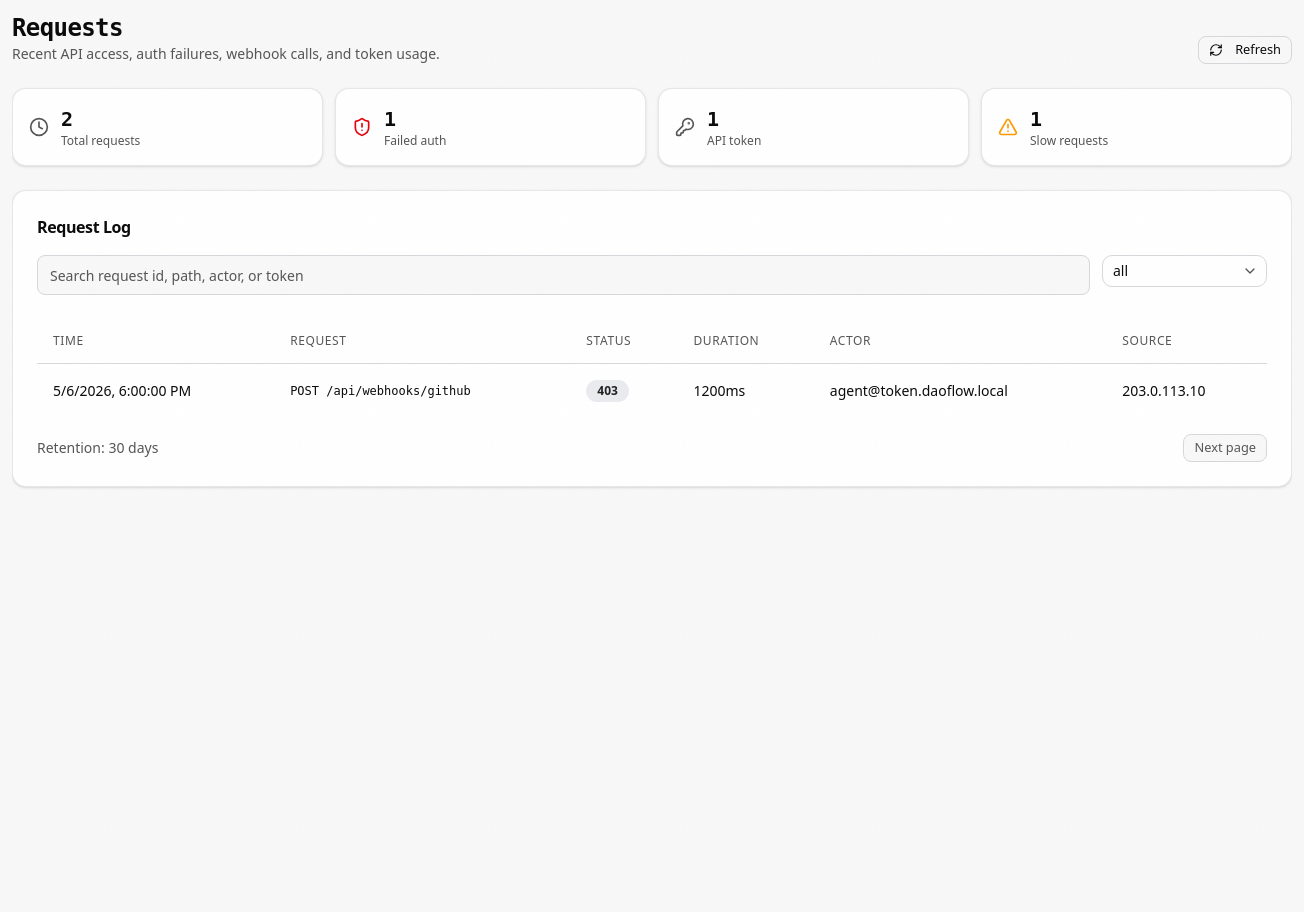
AccessLogsPage › renders request summary, rows, and redacted expanded details
Expected: the element with test id "access-logs-summary-failed-auth" shows "1", [384, 107, 396, 131]
Expected: the cell with test id "access-log-path-rlog_1" reads "POST /api/webhooks/github", [274, 363, 570, 418]
Click the row with test id "access-log-row-rlog_1".
click(122, 390)  # box [37, 363, 1267, 418]
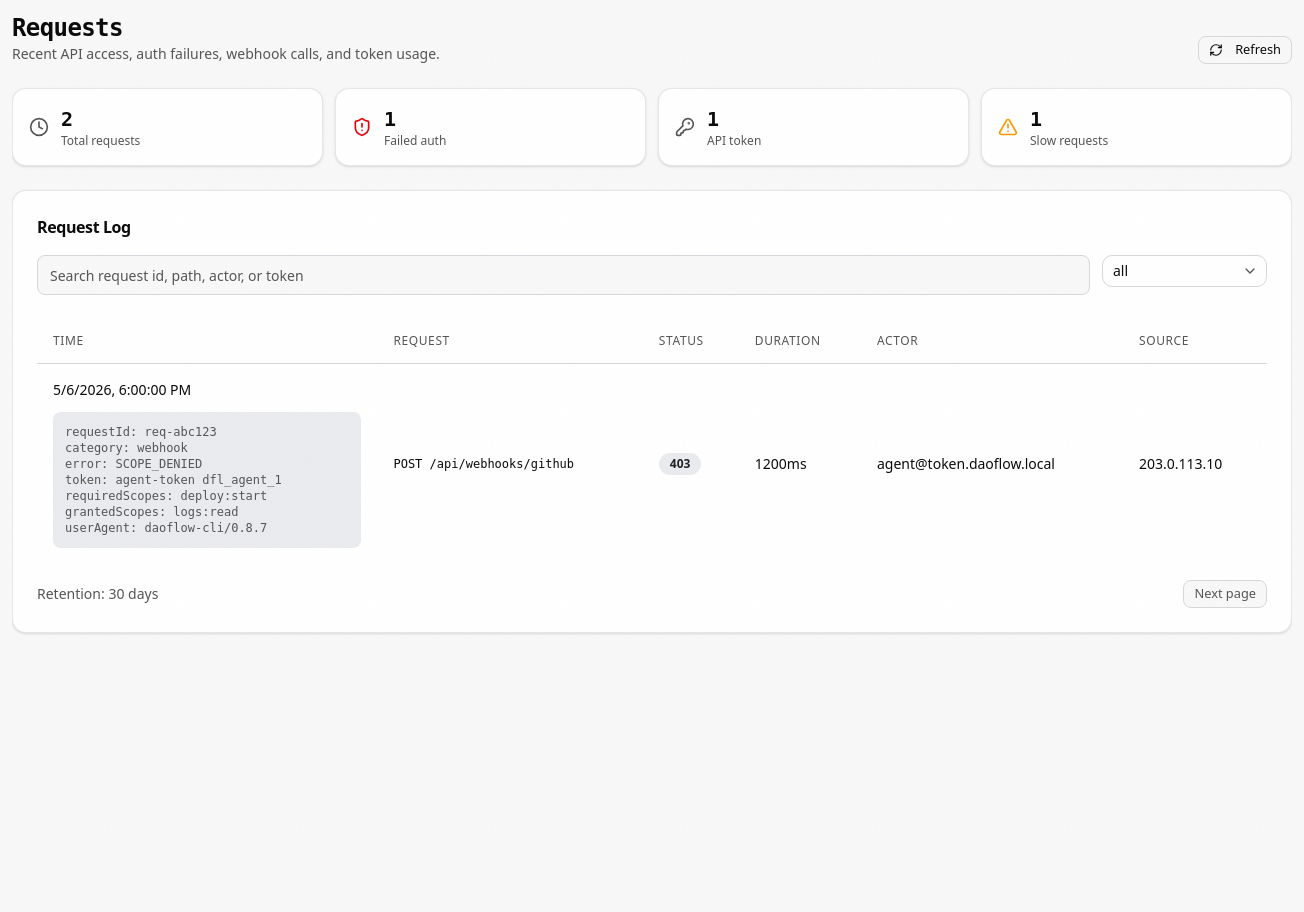
Expected: the text with test id "access-log-details-rlog_1" does not show "Authorization", [53, 412, 361, 548]
Expected: the text with test id "access-log-details-rlog_1" shows "SCOPE_DENIED", [65, 424, 282, 534]
Expected: the text with test id "access-log-details-rlog_1" shows "dfl_agent_1", [65, 424, 282, 534]
